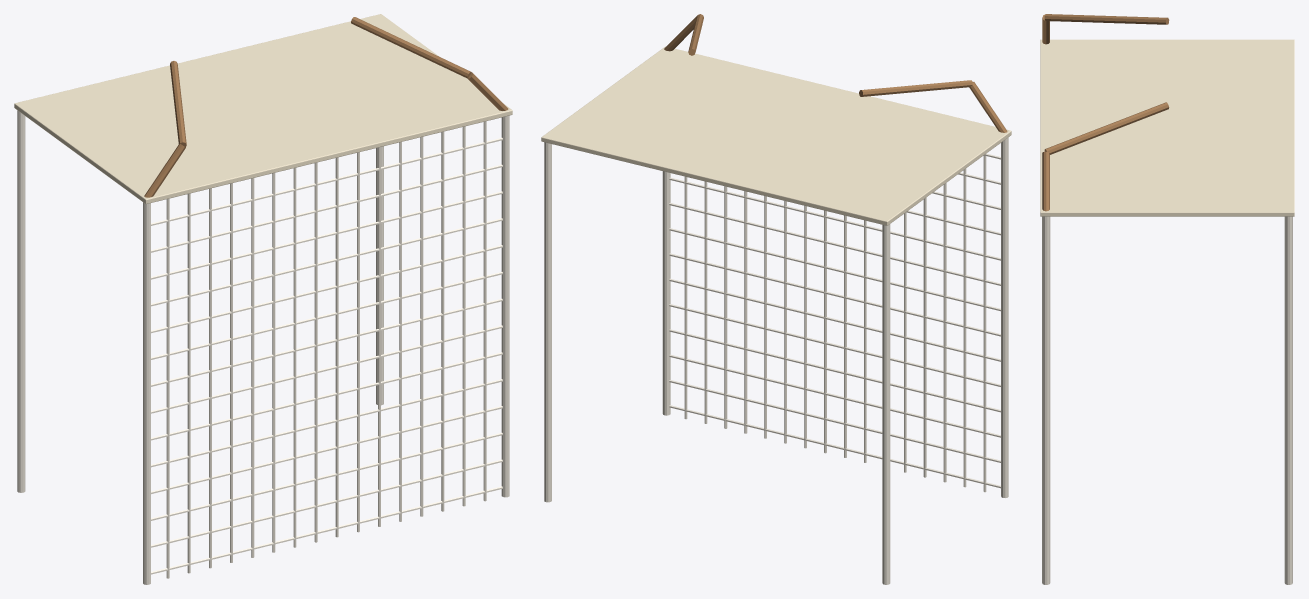
Rendered from home_kaya.glb.
3 views of the same model, side by side, from view 1: azimuth 30°, elevation 25°; view 2: azimuth 150°, elevation 25°; view 3: azimuth 270°, elevation 25° (orthographic). The views are drawn at different scales.
Visible parts, largest first — view 1: Kaya woven ceiling, Fine kaya mosquito-net corner.001, Fine kaya mosquito-net corner.002, Fine kaya mosquito-net corner, Microscopic mosquito net front thread.016, Microscopic mosquito net front thread.009, Microscopic mosquito net front thread.002, Microscopic mosquito net front thread.005, Microscopic mosquito net front thread.006, Microscopic mosquito net front thread.014, Microscopic mosquito net front thread.013, Microscopic mosquito net front thread.001 (+25 smaller); view 2: Kaya woven ceiling, Fine kaya mosquito-net corner.001, Fine kaya mosquito-net corner.003, Fine kaya mosquito-net corner, Fine kaya mosquito-net corner.002, Microscopic mosquito net front thread.001, Microscopic mosquito net front thread.002, Microscopic mosquito net front thread.003, Microscopic mosquito net front thread.004, Mosquito net weft.009, Mosquito net weft.003, Mosquito net weft.006 (+19 smaller); view 3: Kaya woven ceiling, Fine kaya mosquito-net corner.002, Fine kaya mosquito-net corner.003, Corner tie_01.001, Corner tie_01, Corner tie_00.001.
Boxes of the visible parts, x1,y1,x2,y2 form: Kaya woven ceiling: (14, 14, 512, 204); Fine kaya mosquito-net corner.001: (17, 110, 25, 492); Fine kaya mosquito-net corner.002: (501, 115, 509, 497); Fine kaya mosquito-net corner: (143, 202, 150, 584); Microscopic mosquito net front thread.016: (483, 121, 486, 501); Microscopic mosquito net front thread.009: (335, 157, 338, 537); Microscopic mosquito net front thread.002: (187, 193, 190, 573); Microscopic mosquito net front thread.005: (251, 178, 254, 557); Microscopic mosquito net front thread.006: (272, 173, 275, 552); Microscopic mosquito net front thread.014: (441, 131, 444, 511); Microscopic mosquito net front thread.013: (420, 137, 423, 516); Microscopic mosquito net front thread.001: (166, 198, 169, 578); Kaya woven ceiling: (541, 46, 1011, 225); Fine kaya mosquito-net corner.001: (882, 224, 890, 584); Fine kaya mosquito-net corner.003: (544, 142, 551, 502); Fine kaya mosquito-net corner: (1001, 137, 1008, 497); Fine kaya mosquito-net corner.002: (662, 171, 670, 415); Microscopic mosquito net front thread.001: (983, 155, 986, 492); Microscopic mosquito net front thread.002: (963, 168, 966, 487); Microscopic mosquito net front thread.003: (943, 183, 946, 482); Microscopic mosquito net front thread.004: (923, 197, 926, 477); Mosquito net weft.009: (669, 177, 1000, 260); Mosquito net weft.003: (669, 329, 1000, 412); Mosquito net weft.006: (669, 253, 1000, 336); Kaya woven ceiling: (1040, 39, 1294, 216); Fine kaya mosquito-net corner.002: (1042, 216, 1050, 584); Fine kaya mosquito-net corner.003: (1284, 216, 1292, 584); Corner tie_01.001: (1044, 102, 1169, 154); Corner tie_01: (1044, 14, 1169, 24); Corner tie_00.001: (1042, 151, 1049, 211).
Bounding box in the file's own units: 1.65 × 1.95 × 1.02.
